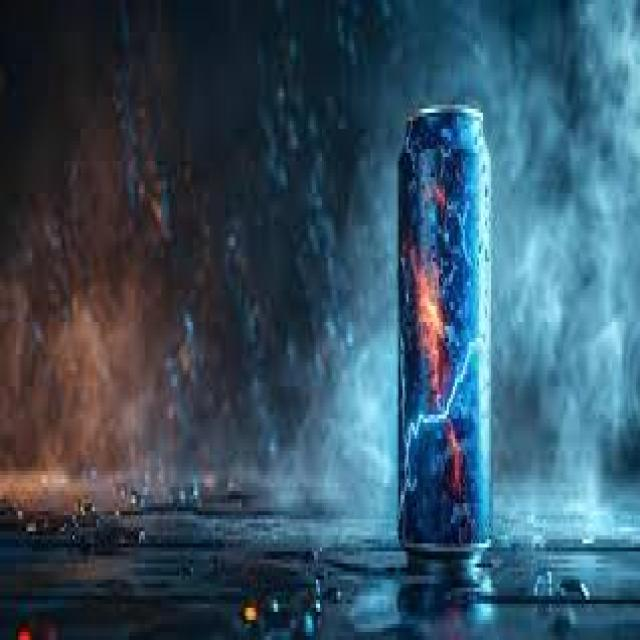Cans: (395, 96, 499, 560)
